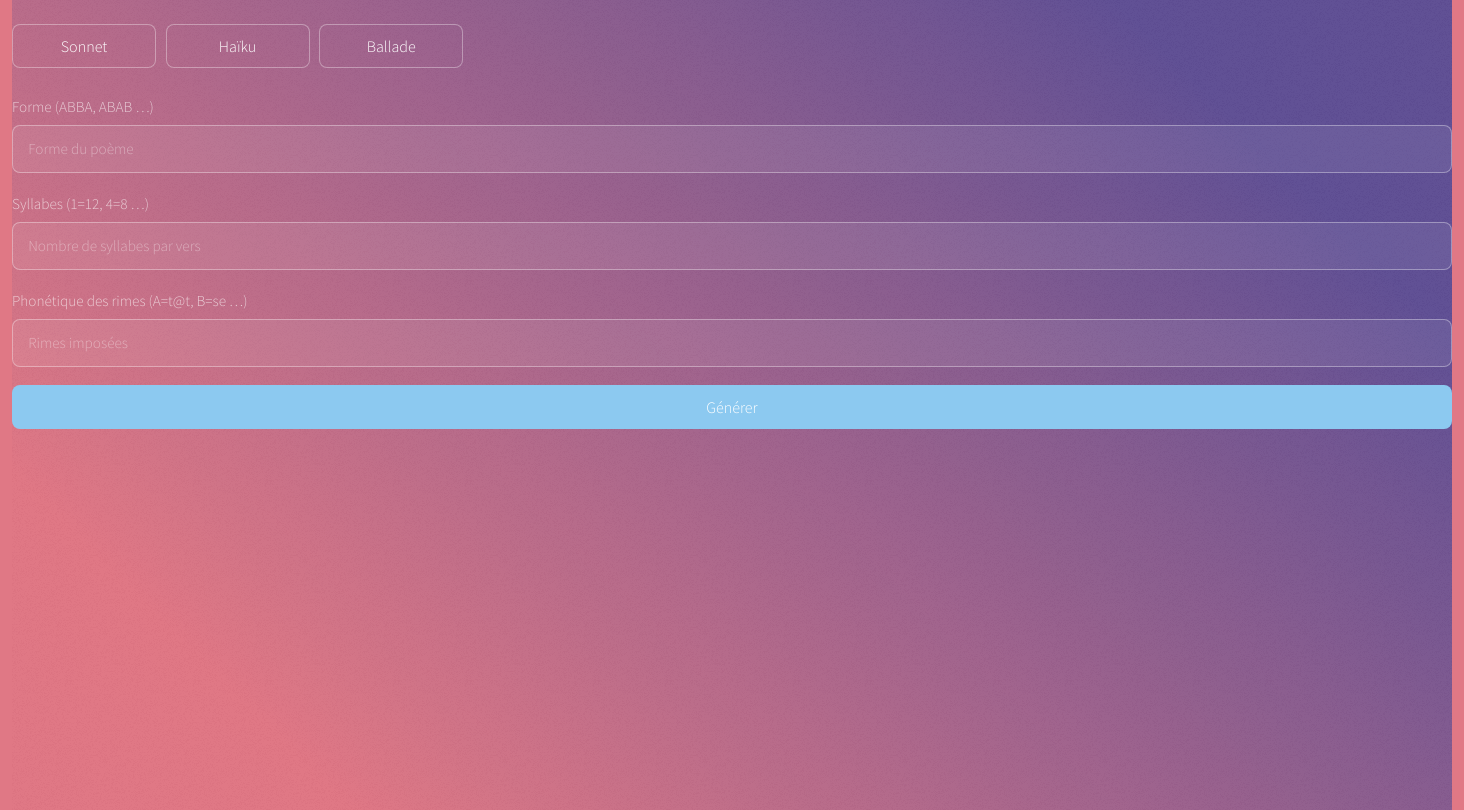
Test: PoemForm › applique le preset Sonnet quand on clique dessus
Click the button "Sonnet" at [84, 46], box [12,24,156,68]
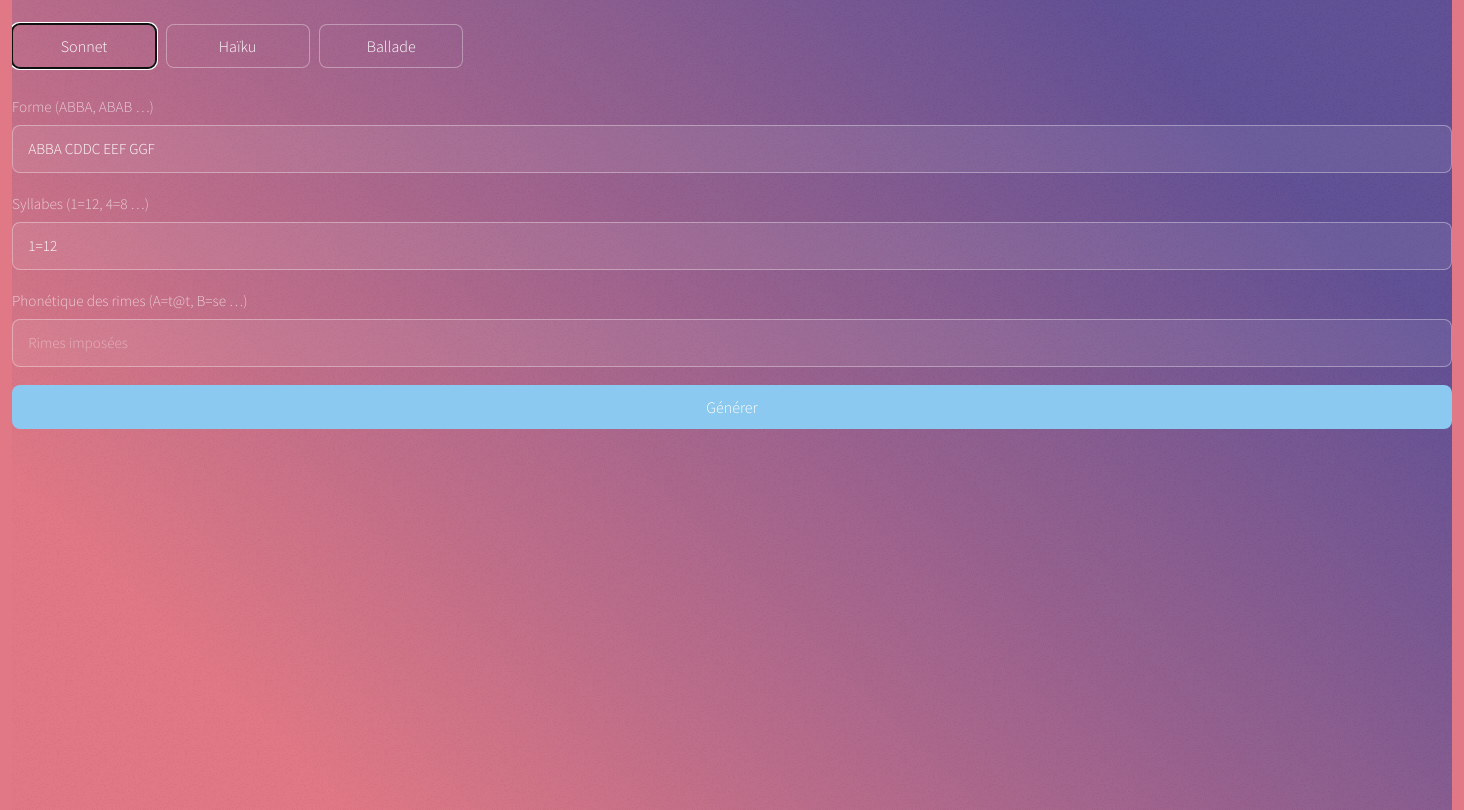
Result: the field labelled "Forme (ABBA, ABAB …)" holds "ABBA CDDC EEF GGF" at [12,125,1452,173]
Result: the field labelled "Syllabes (1=12, 4=8 …)" holds "1=12" at [12,222,1452,270]
